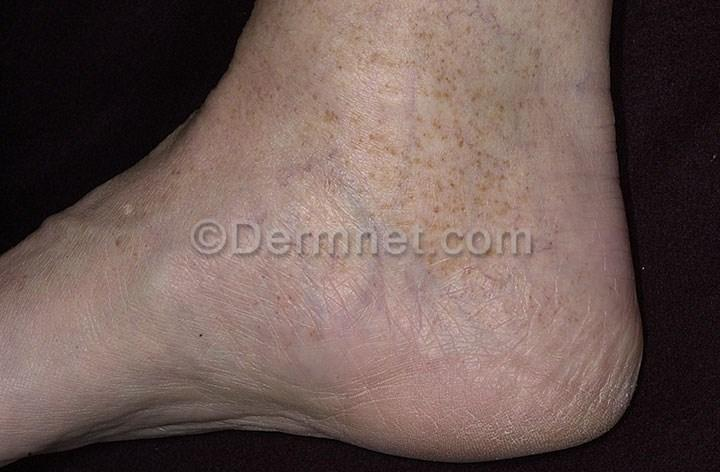Eczema: (286, 8, 575, 229)
